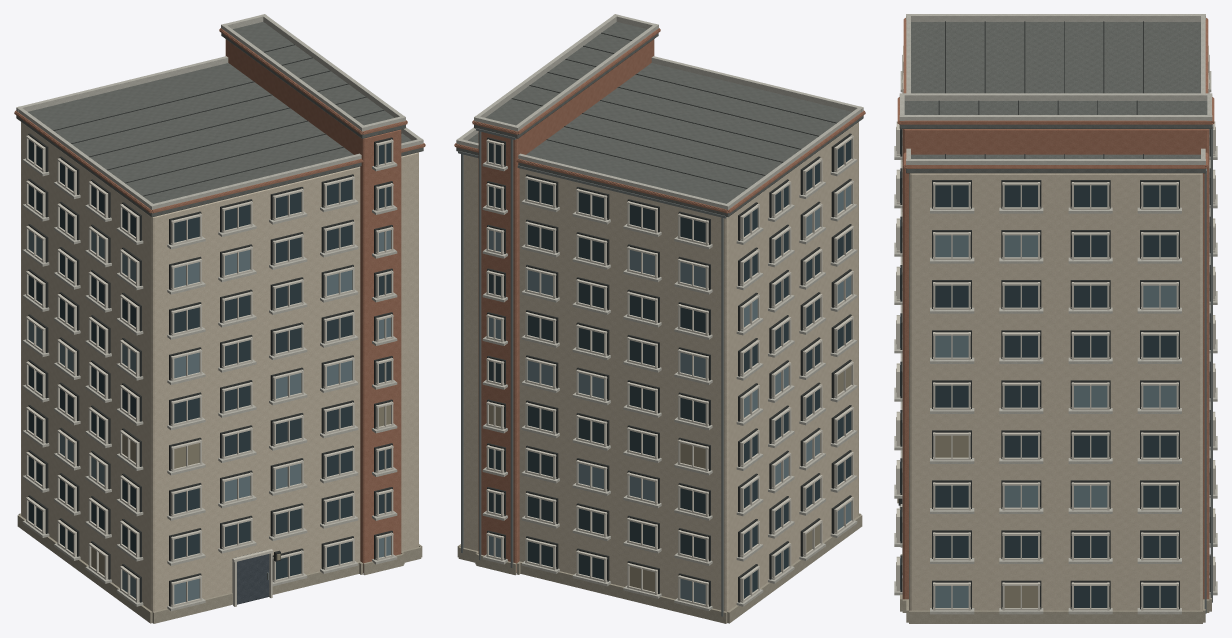
File: RES_HIGH_2x2_001.glb
The picture shows the model from 3 angles, left to right: view 1: azimuth 30°, elevation 25°; view 2: azimuth 150°, elevation 25°; view 3: azimuth 270°, elevation 25°; orthographic projection. The views are drawn at different scales.
Parts seen in each view (by area): view 1: RES_HIGH_2x2_001_Visual; view 2: RES_HIGH_2x2_001_Visual; view 3: RES_HIGH_2x2_001_Visual.
Boxes of the visible parts, left/top/right/bottom form: RES_HIGH_2x2_001_Visual: left=14, top=14, right=425, bottom=623; RES_HIGH_2x2_001_Visual: left=454, top=14, right=865, bottom=623; RES_HIGH_2x2_001_Visual: left=894, top=14, right=1217, bottom=623.
Size of what is drawn, in the model's own units: 3.44 by 5.25 by 3.1.
Materials: 12 (6 with a texture image).
